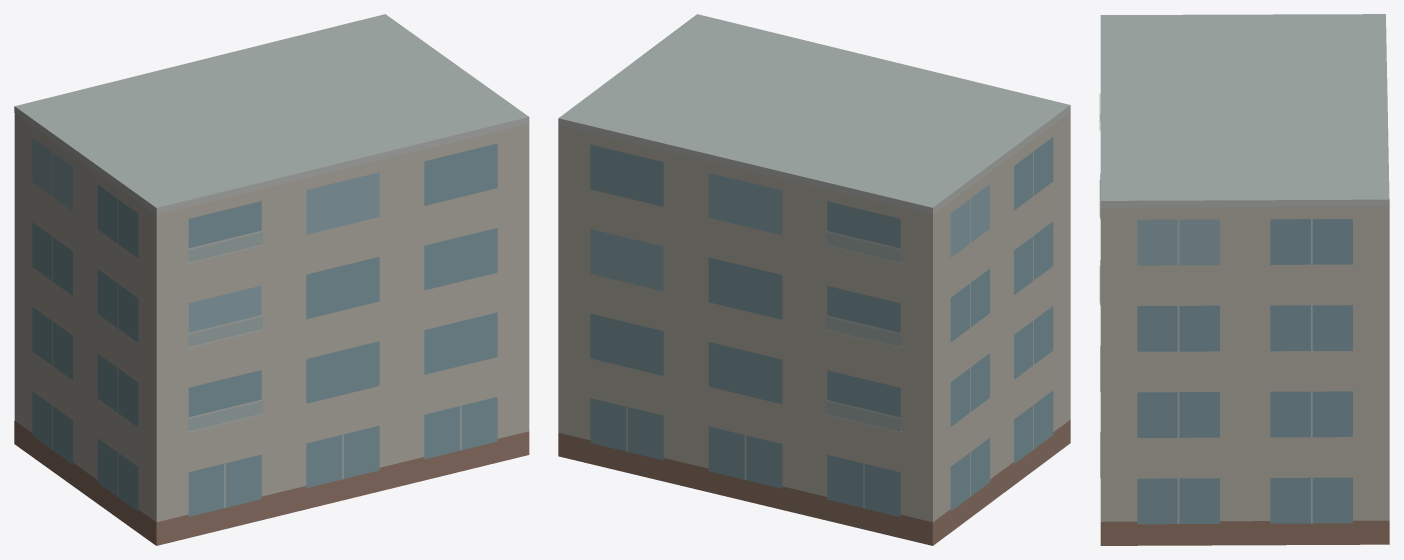
The model's file is survey-upis-32520151.glb.
3 views of the same model, side by side, from view 1: azimuth 30°, elevation 25°; view 2: azimuth 150°, elevation 25°; view 3: azimuth 270°, elevation 25° (orthographic). The views are drawn at different scales.
Visible parts, largest first — view 1: survey-upis-32520151.tmp; view 2: survey-upis-32520151.tmp; view 3: survey-upis-32520151.tmp.
Boxes of the visible parts, box(x1,y1,x2,y2) form: survey-upis-32520151.tmp: box(14, 14, 529, 545); survey-upis-32520151.tmp: box(558, 14, 1070, 545); survey-upis-32520151.tmp: box(1099, 14, 1389, 545).
Size of the model in its own units: 13.9 by 11.95 by 9.12.
